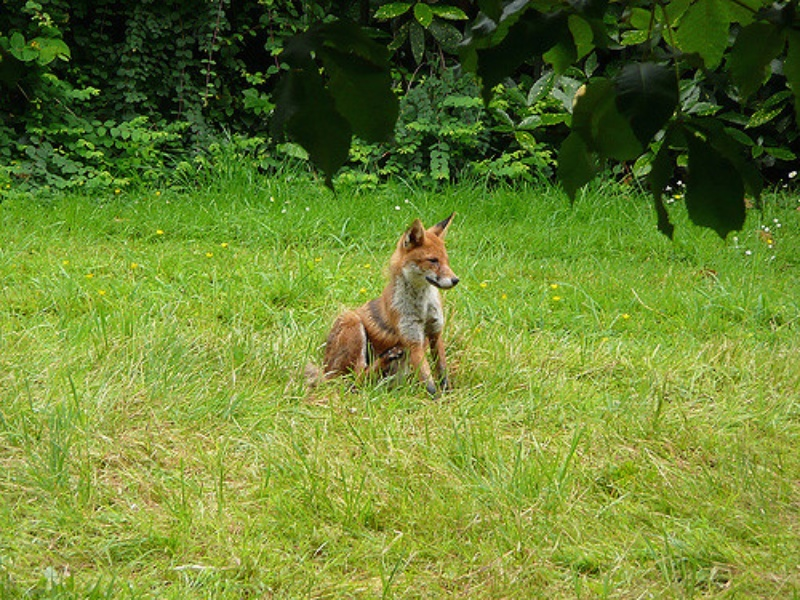fox: (309, 208, 463, 399)
